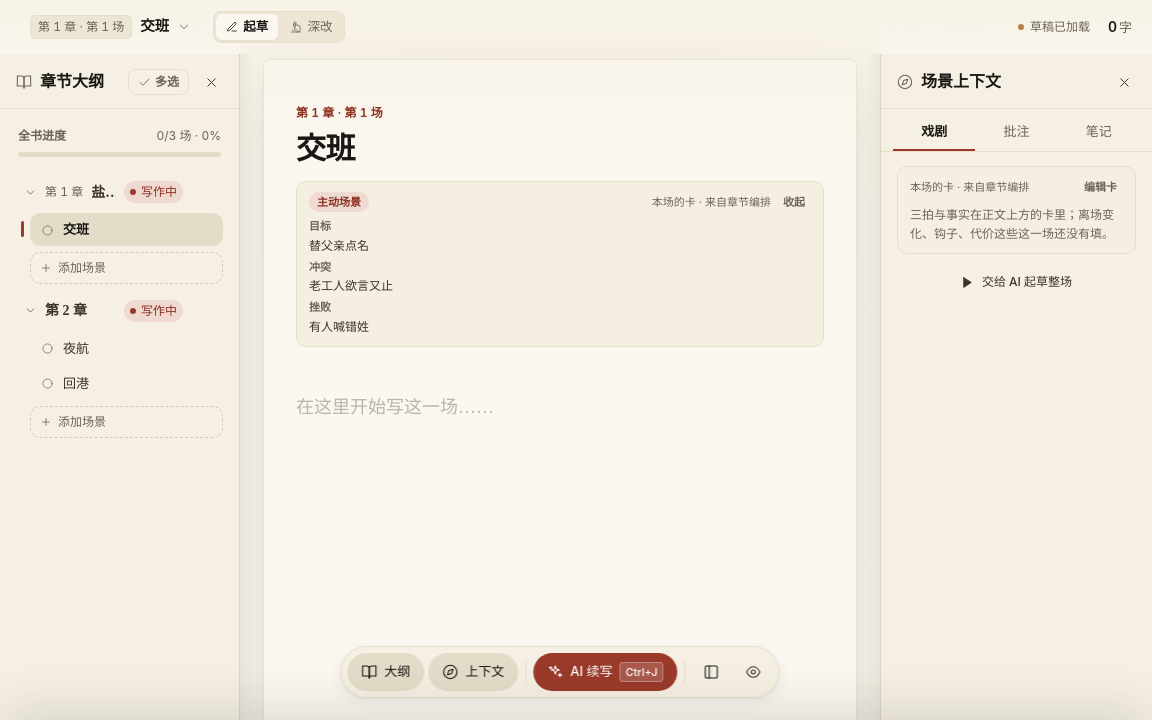
Test: 写作台 · 章节大纲的删除与批量删除 › 勾选整章后章下场景显示为随章带走，不再当成一次独立选择计数
This screenshot has width=1152, height=720.
Step 1. Click the button with test id "writer-outline-select-mode" → x=158, y=82, box [128,69,189,95]
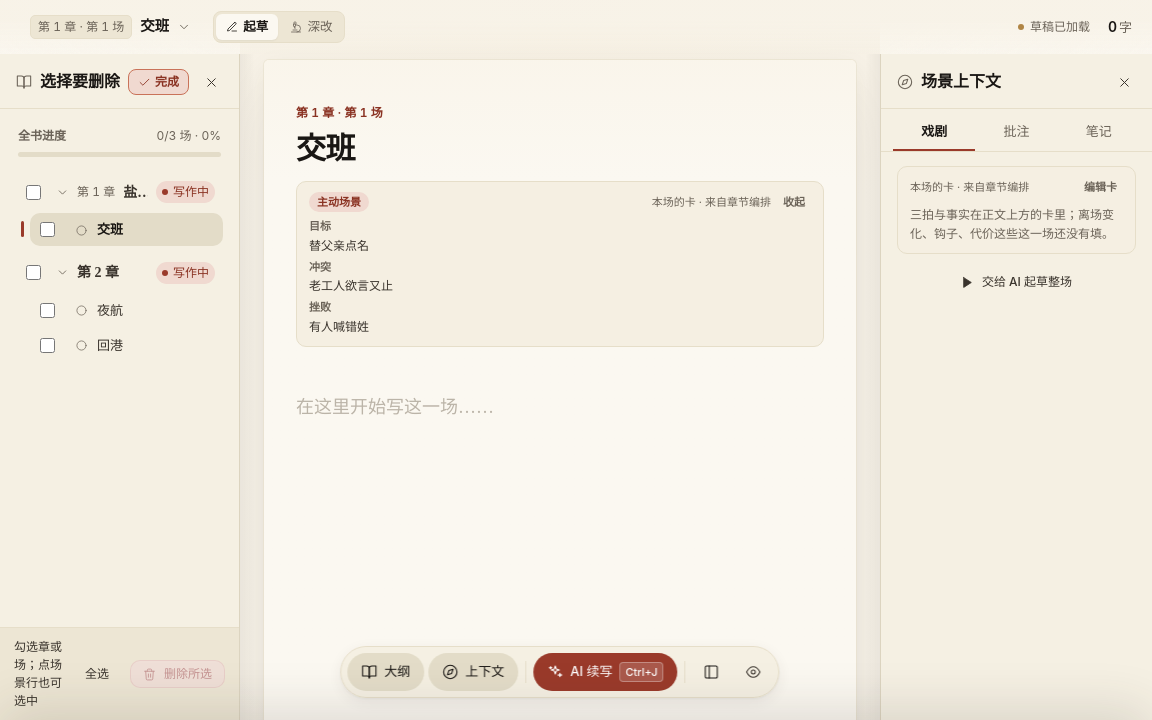
Step 2. Click the 3rd checkbox → x=34, y=273, box [26,265,41,280]
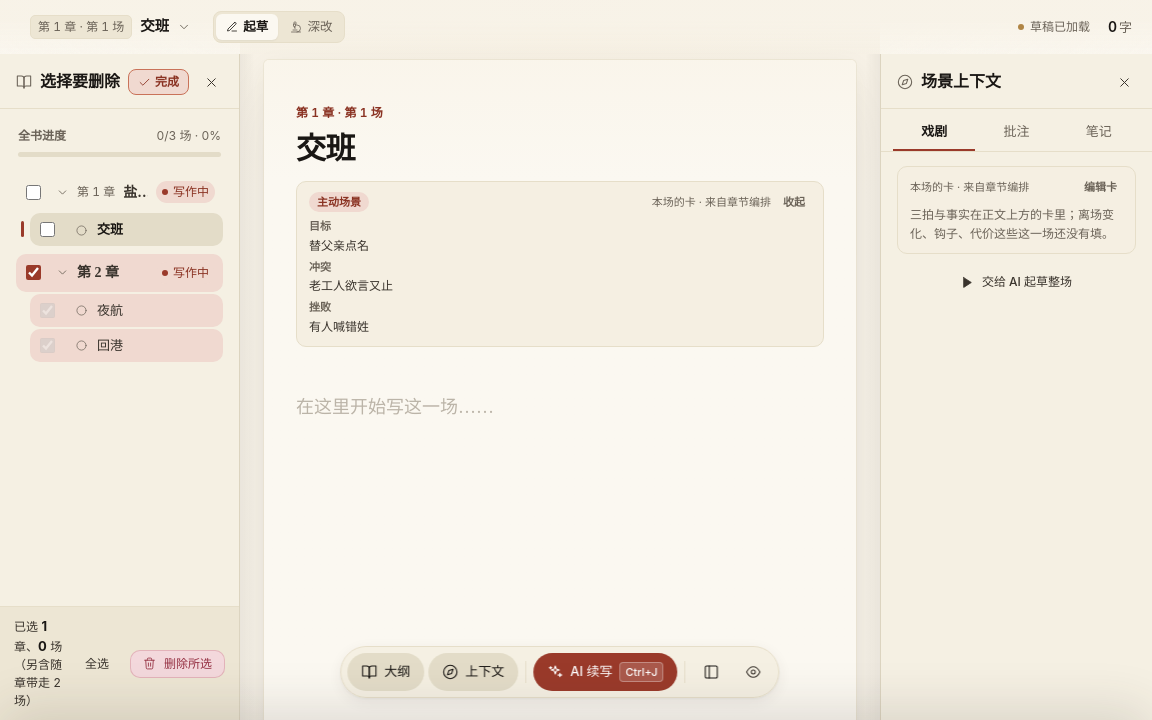
expect the element with class "wr-outline-batch-n" shows "1": met, box [41,618,47,634]
expect the element with class "wr-outline-batch-n" shows "随章带走 2 场": met, box [14,657,62,708]
